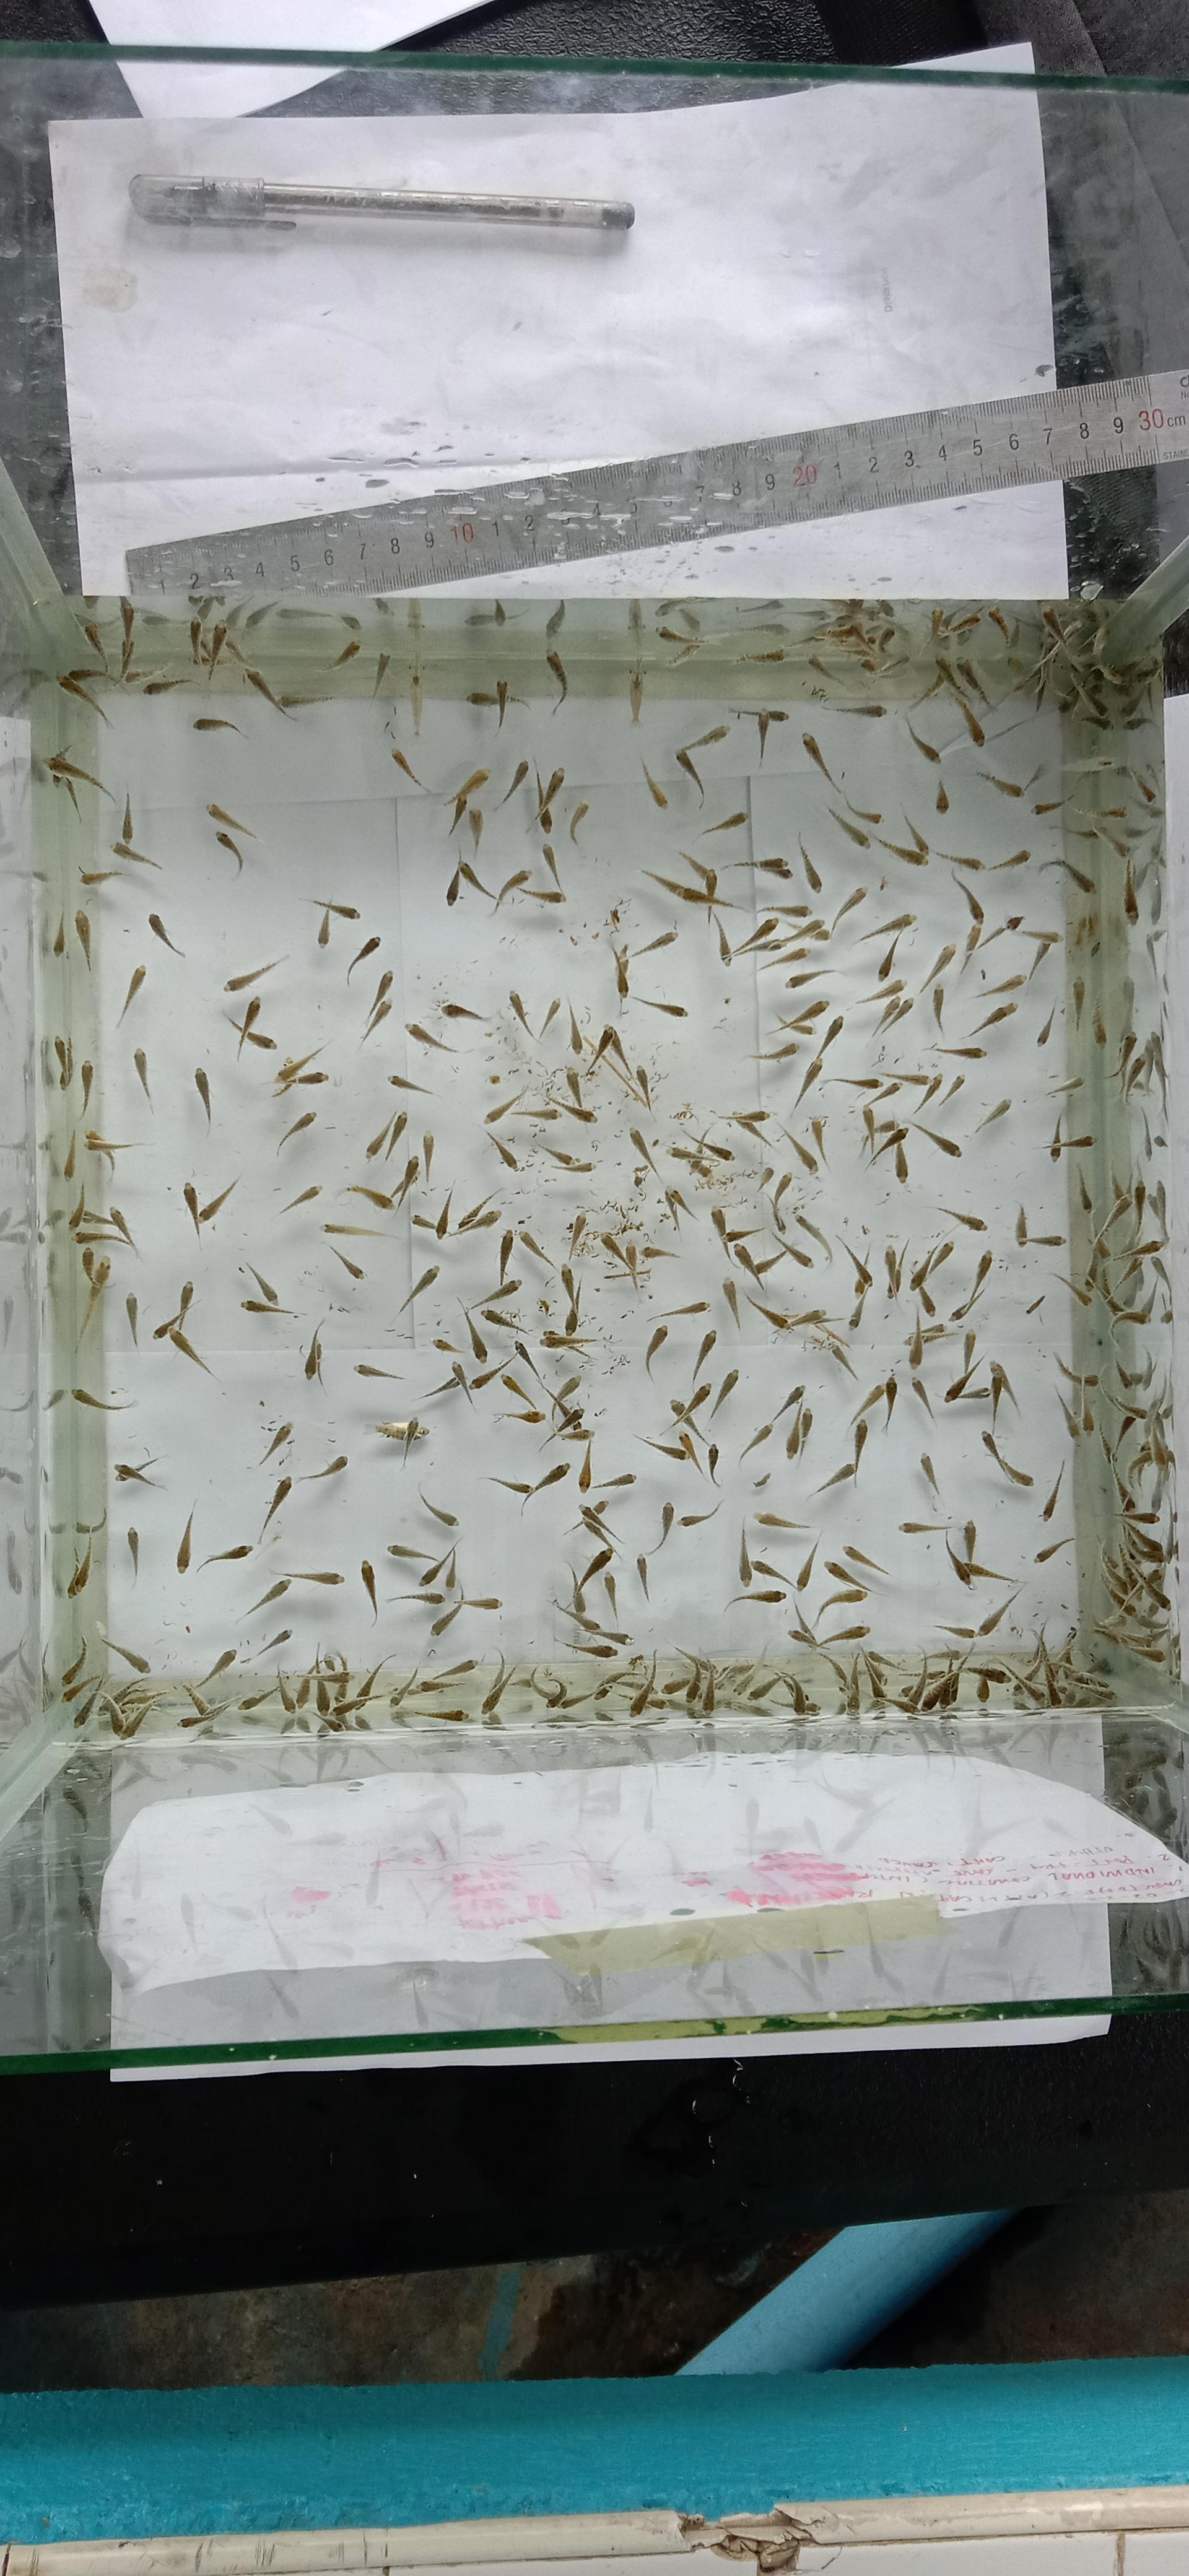fingerling: (419, 1278, 570, 1419), (238, 1644, 396, 1735), (976, 1623, 1115, 1713), (1104, 1349, 1174, 1525), (640, 853, 754, 961), (384, 1543, 501, 1640), (861, 1644, 1007, 1718), (728, 1511, 826, 1613), (746, 1293, 857, 1380), (1018, 603, 1105, 715), (496, 1344, 588, 1447), (632, 1498, 723, 1602), (74, 596, 169, 688), (787, 1602, 864, 1710), (670, 1640, 769, 1718), (800, 731, 882, 825), (259, 1454, 348, 1539), (806, 611, 910, 683), (118, 1646, 236, 1705), (627, 1127, 695, 1227), (865, 1117, 962, 1183), (593, 1651, 683, 1720), (537, 1265, 599, 1364), (317, 1654, 394, 1733), (225, 637, 297, 720), (391, 1658, 478, 1725), (709, 1207, 785, 1285), (974, 930, 1056, 1000), (550, 1548, 616, 1633), (732, 908, 826, 968), (737, 1383, 806, 1462), (588, 1023, 650, 1109), (815, 1069, 943, 1111), (278, 1644, 351, 1715), (792, 1014, 844, 1112), (511, 1339, 581, 1411), (746, 997, 829, 1058), (639, 867, 746, 915), (411, 1188, 503, 1242), (611, 927, 678, 999), (808, 1421, 869, 1500), (902, 810, 982, 869), (731, 1227, 813, 1285), (1013, 1625, 1067, 1712), (675, 721, 729, 807), (934, 657, 985, 747), (179, 1648, 238, 1725), (484, 1462, 570, 1515), (320, 1222, 406, 1273), (897, 1653, 966, 1715), (796, 1643, 859, 1712), (345, 1157, 420, 1212), (632, 1503, 675, 1600), (458, 859, 532, 915), (521, 1666, 604, 1715), (112, 790, 163, 871), (857, 912, 916, 981), (934, 1592, 1020, 1640), (787, 1600, 869, 1649), (943, 1534, 1015, 1590), (1040, 603, 1095, 675), (386, 1263, 438, 1339), (813, 596, 895, 644), (737, 1526, 796, 1590), (99, 1686, 169, 1738), (752, 1539, 821, 1592), (746, 1295, 829, 1337), (46, 747, 113, 800), (908, 1240, 954, 1316), (818, 619, 884, 672), (672, 1644, 718, 1718), (539, 1373, 585, 1447), (238, 1262, 299, 1318), (223, 996, 276, 1058), (429, 1544, 463, 1638), (578, 1436, 636, 1492), (72, 1206, 140, 1253), (732, 706, 787, 766), (57, 669, 112, 728), (979, 1431, 1033, 1488), (1122, 1028, 1163, 1104), (949, 1250, 992, 1322), (429, 1595, 501, 1638), (655, 621, 721, 667), (506, 989, 560, 1043), (877, 810, 930, 866), (599, 1234, 650, 1290), (273, 1043, 327, 1094), (549, 1068, 598, 1124), (388, 1543, 452, 1585), (714, 1107, 775, 1152), (245, 667, 296, 720), (314, 1679, 365, 1732), (374, 1418, 430, 1465), (930, 846, 1030, 872), (189, 614, 232, 675), (151, 1281, 194, 1341), (1043, 1114, 1094, 1163), (854, 624, 902, 677), (849, 1377, 895, 1431), (235, 1579, 291, 1623), (179, 1687, 236, 1730), (976, 762, 1043, 798), (67, 1184, 118, 1232), (223, 954, 287, 992), (823, 1653, 861, 1717), (819, 1074, 900, 1104), (770, 997, 829, 1037), (1063, 1666, 1117, 1709), (312, 899, 360, 946), (480, 1651, 514, 1717), (168, 1327, 213, 1377), (314, 1651, 353, 1709), (1117, 1520, 1168, 1564), (936, 1648, 972, 1710), (926, 605, 980, 646), (800, 731, 839, 787), (1020, 928, 1059, 984), (640, 867, 701, 904), (1015, 1204, 1064, 1249), (667, 1145, 716, 1189), (365, 1109, 407, 1160), (419, 1364, 471, 1405), (624, 1651, 657, 1717), (670, 1129, 732, 1163), (1036, 858, 1095, 894), (731, 1242, 785, 1281), (910, 1324, 964, 1364), (259, 1475, 292, 1539), (576, 1500, 619, 1549), (778, 1125, 821, 1175), (987, 1360, 1020, 1424), (539, 1408, 590, 1449), (276, 606, 360, 631), (67, 1674, 105, 1728), (774, 1671, 819, 1715), (716, 1222, 762, 1267), (668, 1382, 711, 1429), (966, 1000, 1018, 1038), (821, 1327, 859, 1380), (463, 1278, 521, 1313), (419, 1658, 476, 1692), (522, 1666, 568, 1709), (99, 1694, 141, 1740), (976, 1592, 1018, 1638), (907, 1120, 961, 1157), (836, 1237, 872, 1291), (639, 1503, 675, 1557), (793, 1211, 833, 1260), (594, 1659, 644, 1699), (463, 598, 529, 628), (790, 1056, 824, 1112), (205, 802, 256, 839), (197, 1178, 240, 1222), (862, 1651, 892, 1715), (276, 1109, 317, 1155), (491, 867, 532, 913), (457, 1193, 503, 1234), (944, 1364, 992, 1403), (404, 1020, 458, 1055), (951, 693, 985, 747), (898, 1658, 933, 1712), (100, 1638, 149, 1676), (1056, 1390, 1094, 1439), (953, 657, 990, 706), (404, 598, 427, 678), (857, 912, 916, 943), (347, 933, 383, 984), (711, 1209, 762, 1245), (537, 766, 565, 831), (826, 807, 869, 849), (734, 915, 778, 956), (872, 996, 913, 1040), (806, 654, 851, 695), (867, 1124, 908, 1168), (445, 766, 491, 805), (815, 1589, 867, 1623), (908, 662, 948, 708), (823, 1559, 870, 1597), (76, 1288, 105, 1349), (461, 1299, 489, 1364), (808, 1462, 857, 1498), (762, 920, 811, 956), (494, 759, 529, 810), (586, 1025, 621, 1076), (1030, 764, 1064, 815), (677, 851, 718, 894), (46, 874, 67, 956), (483, 1127, 522, 1171), (675, 747, 705, 807), (537, 1142, 593, 1173), (765, 1171, 793, 1234), (148, 912, 186, 958), (920, 943, 957, 989), (714, 1663, 760, 1700), (943, 1534, 976, 1587), (581, 1199, 629, 1235), (905, 713, 939, 762), (552, 1598, 601, 1633), (118, 964, 146, 1025), (1038, 1460, 1066, 1521), (516, 1229, 557, 1270), (34, 744, 76, 785), (951, 872, 984, 923), (388, 1157, 420, 1207), (256, 1421, 292, 1467), (1053, 1352, 1099, 1388), (1048, 1270, 1094, 1306), (783, 1406, 813, 1462), (245, 1630, 292, 1664), (41, 1132, 76, 1180), (709, 1368, 741, 1421), (544, 649, 568, 715), (240, 1262, 279, 1303), (355, 1656, 394, 1697), (918, 1671, 957, 1712), (420, 1546, 458, 1589), (767, 1383, 805, 1426), (195, 1544, 253, 1572), (389, 747, 425, 792), (388, 1664, 424, 1709), (678, 723, 729, 754), (723, 858, 792, 881), (118, 601, 138, 682), (746, 1296, 792, 1331), (72, 1387, 136, 1411), (360, 996, 393, 1043), (976, 915, 1023, 948), (752, 1559, 800, 1592), (419, 1488, 458, 1528), (197, 1648, 236, 1687), (59, 1638, 89, 1690), (499, 1372, 539, 1411), (484, 1088, 526, 1125), (1113, 1352, 1155, 1390), (831, 885, 867, 928), (578, 1548, 614, 1590), (76, 1230, 138, 1255), (875, 835, 925, 866), (466, 1360, 511, 1395), (769, 1234, 813, 1268), (66, 1544, 94, 1598), (639, 1434, 693, 1462), (511, 1339, 544, 1385), (778, 917, 829, 946), (757, 945, 808, 974), (785, 966, 846, 991), (325, 1242, 365, 1280), (971, 1097, 1010, 1135), (458, 859, 496, 899), (115, 1457, 163, 1488), (841, 1546, 888, 1577), (320, 1222, 402, 1240), (174, 1505, 195, 1574), (61, 1672, 103, 1707), (741, 1669, 783, 1704), (934, 1204, 987, 1232), (539, 1331, 594, 1357), (296, 1454, 348, 1482), (112, 841, 161, 871), (629, 994, 688, 1019), (506, 989, 535, 1038), (857, 976, 907, 1005), (787, 1603, 819, 1648), (844, 1651, 867, 1713), (397, 1705, 470, 1725), (662, 1186, 698, 1226), (599, 1234, 636, 1273), (1010, 1672, 1046, 1712), (690, 1331, 718, 1382), (902, 810, 930, 861), (813, 619, 864, 647), (798, 835, 823, 892), (631, 928, 678, 958), (558, 1265, 580, 1331), (225, 636, 258, 678), (302, 1322, 325, 1383), (108, 1206, 140, 1250), (118, 1681, 171, 1707), (644, 1324, 668, 1380), (278, 1066, 327, 1094), (312, 1676, 340, 1725), (737, 1424, 774, 1462), (514, 1666, 550, 1704), (542, 1373, 581, 1408), (213, 831, 245, 874), (1104, 1390, 1146, 1421), (1128, 767, 1159, 810), (640, 761, 668, 808), (122, 598, 169, 626), (816, 1014, 844, 1061), (284, 1042, 328, 1071), (790, 1184, 826, 1221), (752, 1511, 813, 1533), (724, 1590, 785, 1612), (205, 621, 230, 674), (345, 1184, 394, 1211), (911, 1074, 944, 1114), (1040, 605, 1066, 654), (481, 1306, 527, 1334), (281, 1183, 322, 1214), (358, 1561, 378, 1625), (82, 1250, 112, 1293), (84, 1130, 143, 1152), (795, 1539, 819, 1590), (974, 973, 1025, 997), (550, 1097, 598, 1124), (806, 1114, 829, 1168), (181, 1684, 215, 1720), (429, 1600, 461, 1638), (611, 941, 632, 999), (560, 1638, 617, 1659), (1033, 1536, 1074, 1566), (701, 810, 747, 836), (555, 1687, 601, 1713), (72, 910, 92, 971), (709, 1106, 770, 1125), (245, 598, 281, 631), (933, 1073, 966, 1109), (118, 1702, 151, 1738), (284, 692, 335, 715), (678, 1500, 723, 1526), (650, 1301, 709, 1321), (879, 1068, 938, 1088), (330, 1692, 374, 1718), (934, 655, 961, 700), (1072, 912, 1099, 956), (279, 1569, 343, 1587), (864, 1648, 905, 1676), (240, 1298, 297, 1318), (563, 1212, 588, 1258), (824, 700, 887, 718), (910, 1377, 936, 1419), (80, 621, 108, 660), (273, 1055, 301, 1094), (737, 1528, 755, 1589), (918, 1452, 941, 1500), (567, 800, 591, 844), (785, 1308, 829, 1332), (1122, 1237, 1166, 1262), (540, 843, 562, 894), (194, 716, 245, 738), (959, 920, 980, 971), (236, 1687, 278, 1713), (294, 1672, 320, 1713), (194, 1066, 212, 1125), (713, 910, 732, 964), (626, 1681, 655, 1717), (604, 895, 634, 931), (151, 1311, 189, 1339), (537, 996, 562, 1038), (409, 672, 425, 736), (448, 1362, 473, 1405), (601, 1268, 650, 1290), (867, 654, 910, 678), (61, 774, 82, 823), (739, 619, 788, 641), (240, 996, 264, 1038), (182, 1183, 202, 1235), (721, 1276, 741, 1329), (882, 1245, 902, 1298), (236, 1028, 276, 1055), (530, 767, 547, 830), (667, 639, 701, 669), (946, 609, 980, 639), (686, 1155, 716, 1189), (629, 1065, 652, 1109), (312, 899, 360, 920), (438, 1000, 486, 1022), (821, 1625, 869, 1646), (484, 1475, 532, 1497), (1033, 1005, 1058, 1046), (493, 598, 529, 626), (411, 1211, 447, 1239), (629, 1651, 657, 1687), (931, 849, 982, 869), (957, 1331, 977, 1382), (987, 606, 1013, 644), (695, 1135, 732, 1161), (388, 1074, 434, 1096), (276, 1671, 299, 1713), (74, 1206, 117, 1229), (939, 1667, 962, 1710), (654, 598, 700, 619), (133, 1046, 151, 1101), (746, 1042, 800, 1060), (493, 677, 511, 731), (143, 675, 192, 695), (823, 1074, 882, 1091), (842, 800, 882, 825), (629, 1127, 654, 1166), (222, 596, 250, 631), (74, 1506, 108, 1534), (627, 669, 645, 721), (496, 1230, 514, 1283), (53, 1035, 71, 1088), (507, 1106, 560, 1124), (667, 1143, 711, 1165), (969, 1664, 1010, 1687), (542, 1073, 565, 1114), (434, 1191, 453, 1239), (709, 992, 734, 1030), (557, 1406, 586, 1437), (388, 1543, 438, 1561), (859, 1107, 877, 1158), (930, 1043, 985, 1060), (898, 1520, 954, 1536), (657, 624, 700, 646), (371, 651, 391, 697), (1044, 1074, 1084, 1097), (877, 936, 897, 982), (598, 1574, 617, 1620), (849, 1421, 869, 1467), (1110, 1304, 1150, 1327), (1123, 861, 1138, 922), (123, 1293, 140, 1347), (353, 1362, 402, 1380), (189, 618, 207, 667), (568, 1005, 586, 1055), (928, 984, 946, 1033), (880, 1377, 897, 1431), (732, 598, 782, 616), (447, 793, 468, 835), (330, 639, 360, 669), (709, 1207, 729, 1252), (800, 1326, 829, 1355), (222, 1004, 250, 1035), (576, 1439, 593, 1492), (79, 1060, 95, 1112), (757, 902, 810, 918), (857, 644, 884, 677), (466, 805, 484, 853), (386, 1592, 443, 1607), (990, 848, 1030, 869), (846, 1291, 867, 1331), (67, 1186, 87, 1229), (494, 1410, 545, 1426), (371, 969, 394, 1005), (125, 1526, 140, 1582), (189, 593, 218, 621), (542, 1677, 568, 1709), (737, 647, 787, 664), (905, 1327, 925, 1368), (315, 1710, 348, 1735), (594, 1628, 632, 1649), (624, 598, 645, 636), (205, 575, 243, 596), (591, 1472, 636, 1490), (506, 695, 529, 729), (411, 1677, 450, 1697), (1117, 1505, 1159, 1523), (120, 639, 138, 682), (677, 606, 701, 637), (519, 887, 565, 904), (675, 1429, 698, 1462), (659, 1676, 691, 1699), (915, 1285, 938, 1318), (867, 1081, 900, 1104), (443, 1548, 460, 1594), (279, 1715, 312, 1738), (120, 790, 135, 841), (420, 1132, 435, 1183), (545, 598, 565, 636), (723, 1227, 760, 1247), (445, 864, 463, 905), (893, 1142, 911, 1183), (953, 1383, 994, 1401), (92, 1145, 118, 1173), (634, 1556, 650, 1600), (872, 624, 897, 654), (834, 598, 864, 623), (1020, 1232, 1064, 1249), (80, 867, 120, 885), (557, 1424, 593, 1444), (62, 1132, 77, 1180), (120, 598, 136, 641), (31, 752, 53, 785), (642, 1651, 659, 1694), (1013, 1204, 1030, 1247), (315, 1423, 342, 1449), (867, 596, 895, 621), (751, 1165, 775, 1193), (928, 606, 948, 641), (972, 1672, 992, 1705), (381, 700, 397, 739), (406, 598, 424, 632), (51, 917, 66, 958), (1020, 927, 1061, 941), (460, 1597, 501, 1612), (1023, 1293, 1046, 1319), (1031, 797, 1064, 815), (933, 777, 949, 813), (466, 690, 503, 706), (294, 1069, 327, 1088), (177, 1280, 194, 1316), (961, 1521, 977, 1557), (80, 1247, 95, 1286), (800, 682, 829, 701), (315, 912, 332, 946), (833, 1694, 856, 1718), (537, 802, 555, 833), (708, 1444, 721, 1487), (640, 1245, 678, 1260), (631, 1165, 650, 1193), (1095, 803, 1128, 820), (186, 572, 204, 601), (463, 611, 499, 626), (136, 609, 171, 624), (654, 598, 682, 616), (43, 1388, 66, 1410), (432, 1337, 461, 1354), (534, 1298, 553, 1322), (670, 1102, 695, 1122), (749, 1472, 770, 1493), (614, 1306, 640, 1322), (491, 598, 506, 624), (325, 1301, 355, 1314), (516, 1209, 535, 1229), (338, 613, 360, 631), (371, 595, 391, 613), (48, 1518, 67, 1534), (484, 1071, 503, 1088)
